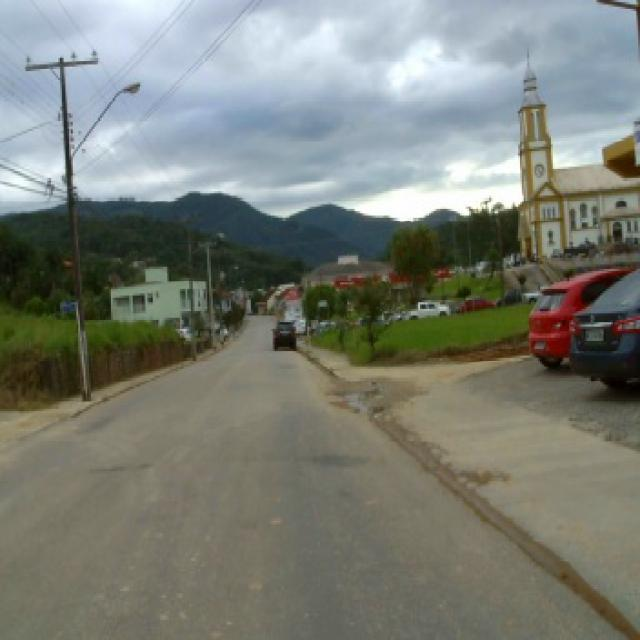Poth-hole: (329, 376, 387, 416), (87, 458, 153, 473)
